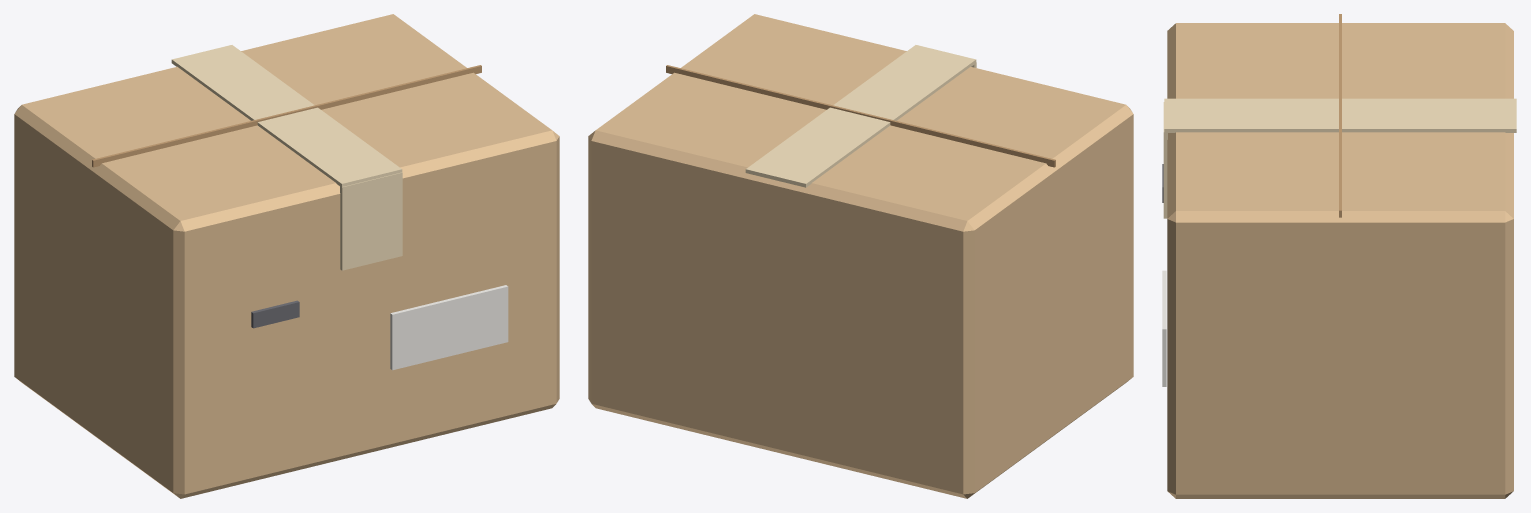
Rendered from prop_cardboard_box_01.glb.
3 renders of one model, left to right at view 1: azimuth 30°, elevation 25°; view 2: azimuth 150°, elevation 25°; view 3: azimuth 270°, elevation 25°, orthographic. The views are drawn at different scales.
Visible parts, largest first — view 1: prop_cardboard_box_01_body; view 2: prop_cardboard_box_01_body; view 3: prop_cardboard_box_01_body.
Boxes of the visible parts, left/top/right/bottom form: prop_cardboard_box_01_body: left=14, top=14, right=559, bottom=498; prop_cardboard_box_01_body: left=588, top=14, right=1133, bottom=498; prop_cardboard_box_01_body: left=1162, top=14, right=1516, bottom=498.
Bounding box in the file's own units: 0.322 × 0.2237 × 0.2455.
